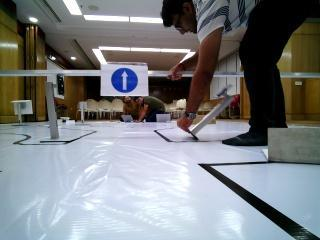straight: (104, 65, 148, 91)
